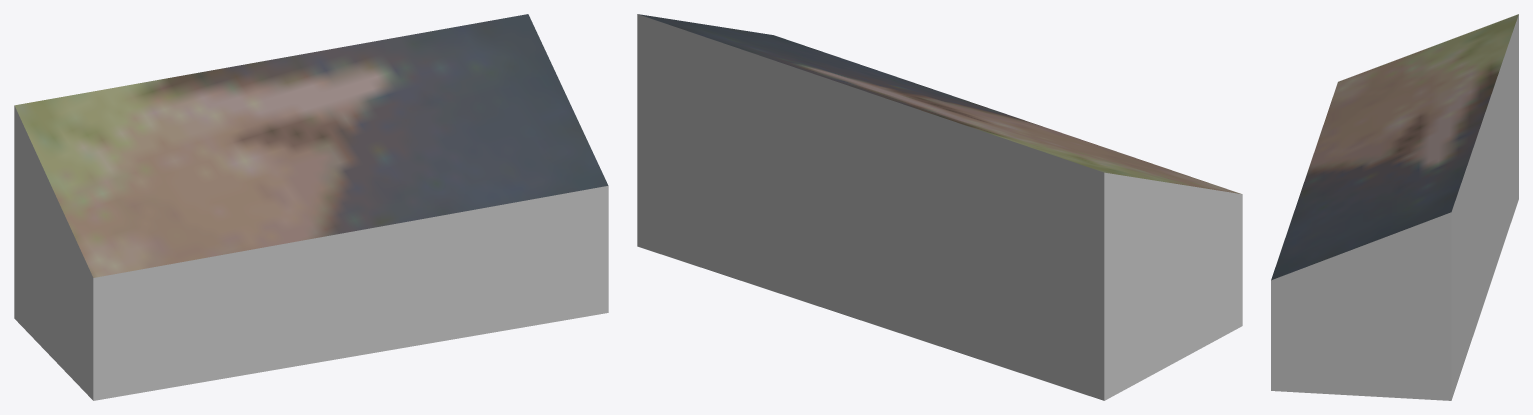
File: DEBW_0010007Tx9L.gltf
3 views of the same model, side by side, from view 1: azimuth 30°, elevation 25°; view 2: azimuth 150°, elevation 25°; view 3: azimuth 270°, elevation 25° (orthographic). The views are drawn at different scales.
Parts seen in each view (by area): view 1: Z_UP; view 2: Z_UP; view 3: Z_UP.
Part boxes in pixels (x1=…): Z_UP: x1=14, y1=14, x2=608, y2=400; Z_UP: x1=637, y1=14, x2=1242, y2=400; Z_UP: x1=1271, y1=14, x2=1518, y2=400.
Size of the model in its own units: 10.35 by 4.29 by 5.11.
Materials: 2 (1 with a texture image).
